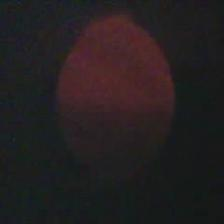fertile: (52, 9, 179, 184)
